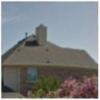chimneys: (36, 24, 48, 46)
